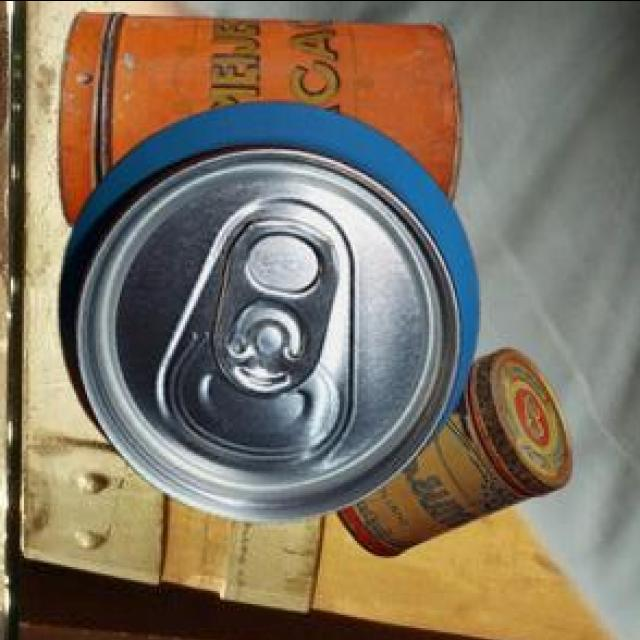logam: (56, 106, 476, 524), (56, 16, 458, 230), (334, 352, 569, 558)
